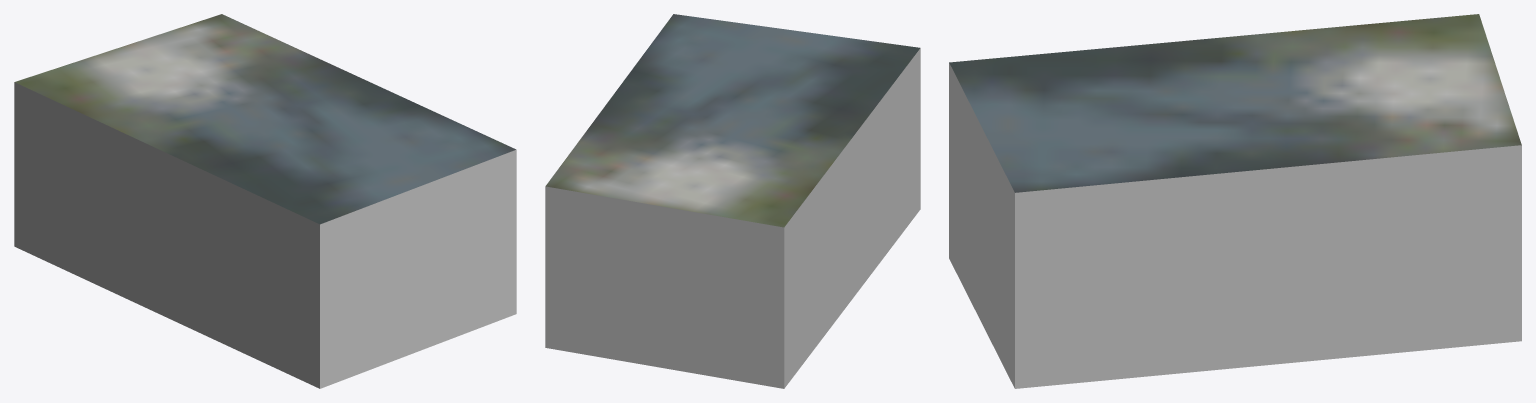
File: DEBW_0010007TxdH.gltf
3 views of the same model, side by side, from view 1: azimuth 30°, elevation 25°; view 2: azimuth 150°, elevation 25°; view 3: azimuth 270°, elevation 25° (orthographic). The views are drawn at different scales.
Visible parts, largest first — view 1: Z_UP; view 2: Z_UP; view 3: Z_UP.
Boxes of the visible parts, left/top/right/bottom form: Z_UP: left=14, top=14, right=516, bottom=388; Z_UP: left=545, top=14, right=920, bottom=388; Z_UP: left=949, top=14, right=1521, bottom=388.
Bounding box in the file's own units: 4.76 × 2.43 × 6.44.
Materials: 2 (1 with a texture image).
